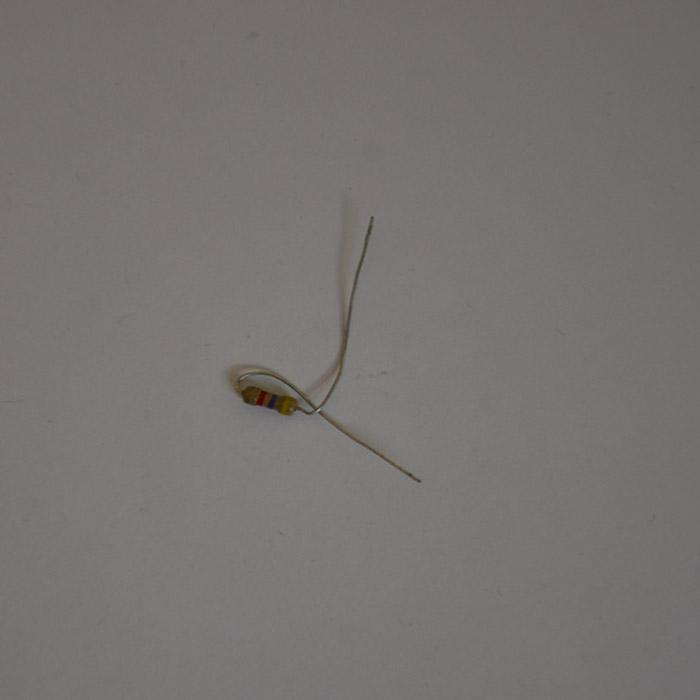resistor: (239, 384, 298, 416)
